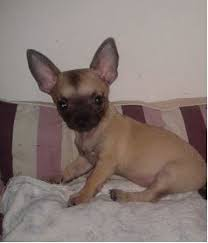chihuahua: (21, 32, 208, 209)
